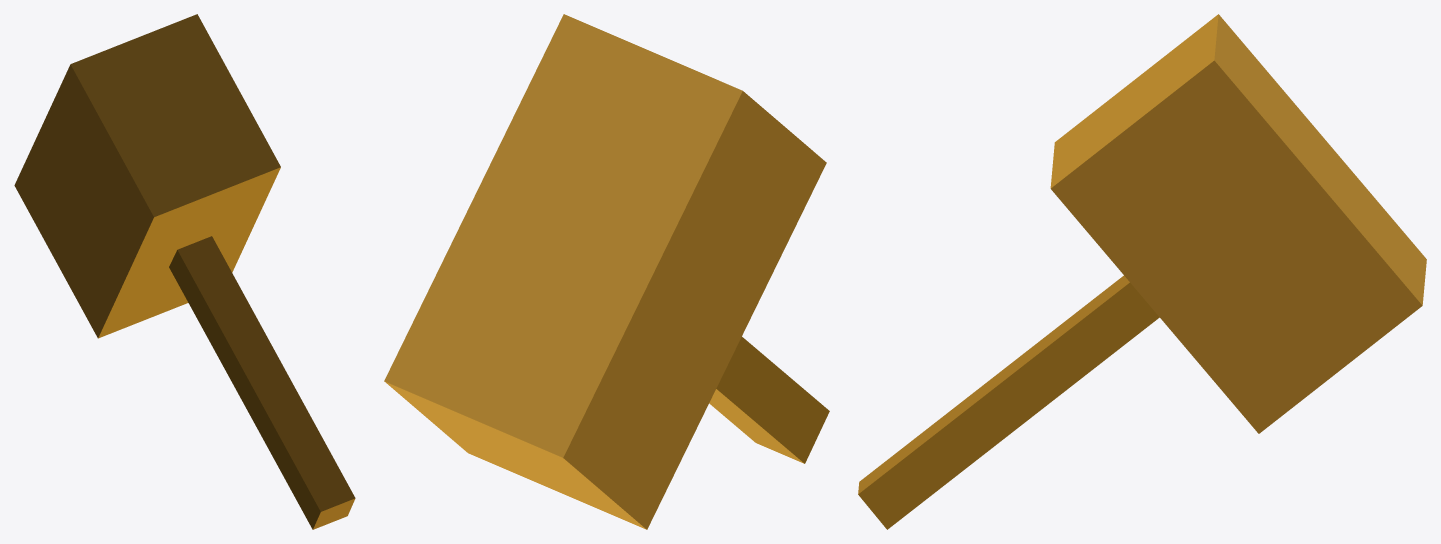
The model's file is GriffinKnight_Hammer.FBX.
3 views of the same model, side by side, from view 1: azimuth 30°, elevation 25°; view 2: azimuth 150°, elevation 25°; view 3: azimuth 270°, elevation 25° (orthographic). The views are drawn at different scales.
Visible parts, largest first — view 1: Griffin_Knight; view 2: Griffin_Knight; view 3: Griffin_Knight.
Part boxes in pixels (x1,y1,x2,y2): Griffin_Knight: [14, 14, 355, 529]; Griffin_Knight: [384, 14, 829, 529]; Griffin_Knight: [858, 14, 1426, 529].
Bounding box in the file's own units: 20.24 × 45.75 × 50.06.
